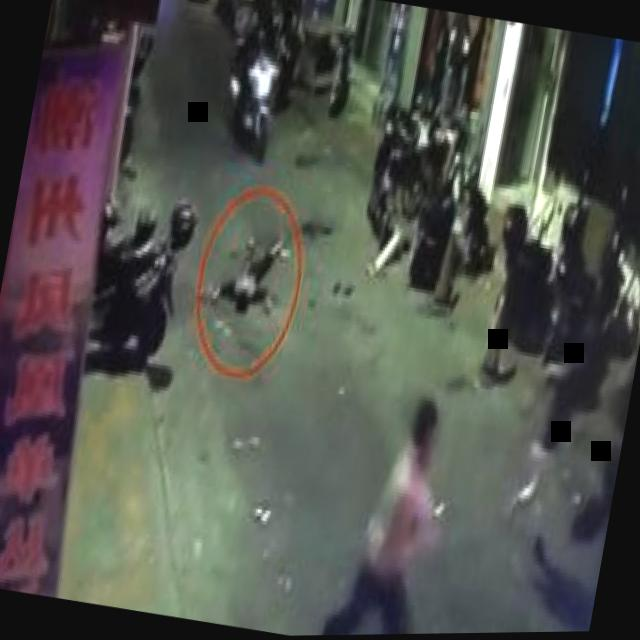Fall-Detected: (202, 196, 304, 329)
